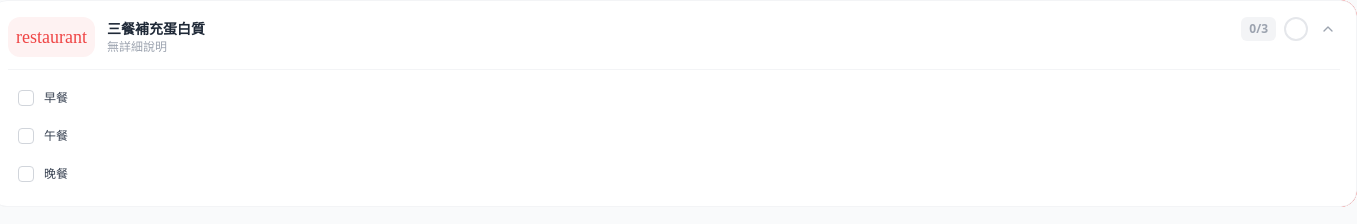
Test: TaskCard › checklist task — inline subtasks (2026-05-25 bug fix) › chevron toggles between collapsed and expanded
Expected: the text "早餐" is shown, [44,90,68,106]
Click the button named "收合子任務" at (1328, 29), box [1316,17,1340,41]
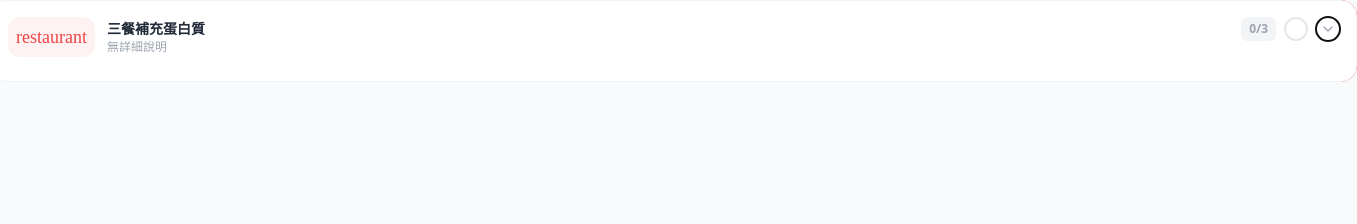
Result: the button "早餐" is gone
Click the button named "展開子任務" at (1328, 29), box [1316,17,1340,41]
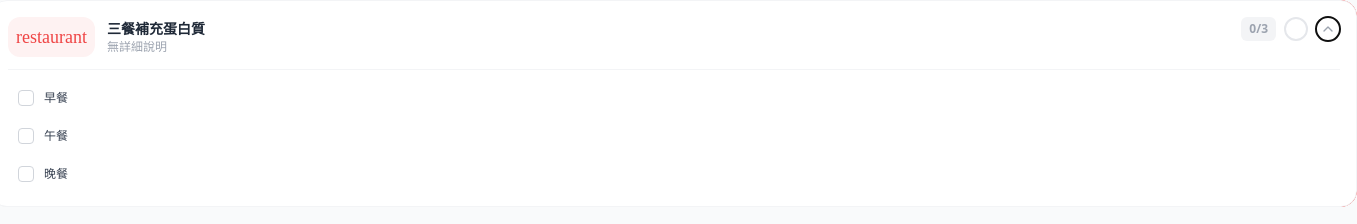
Result: the text "早餐" is shown at [44,90,68,106]
